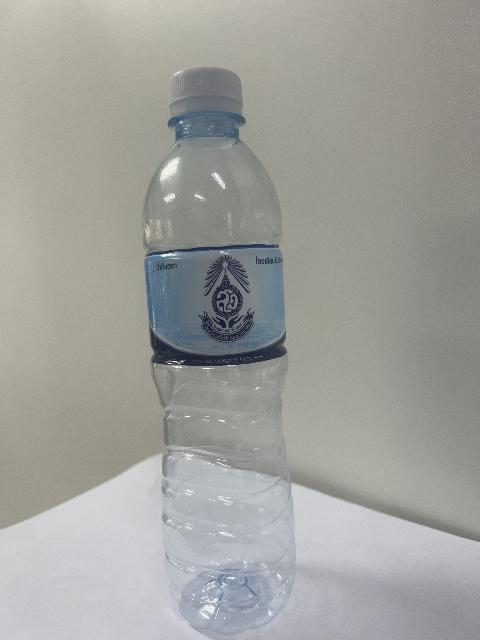bottle: (144, 68, 295, 634)
